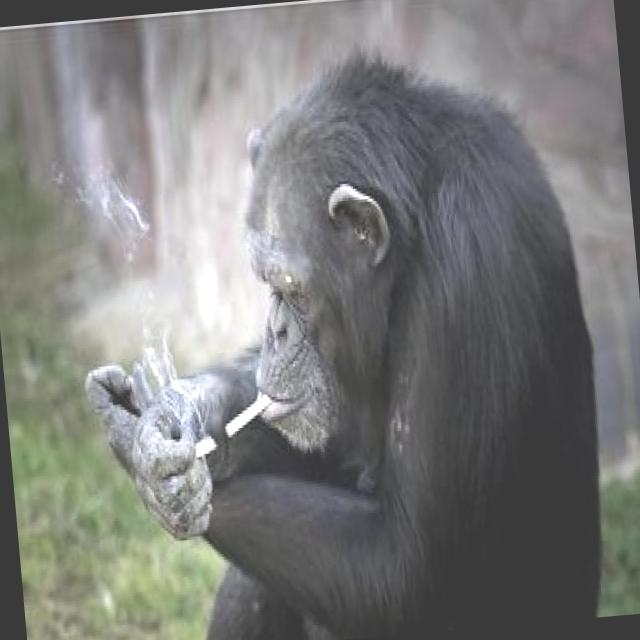cigarette: (221, 388, 275, 440)
